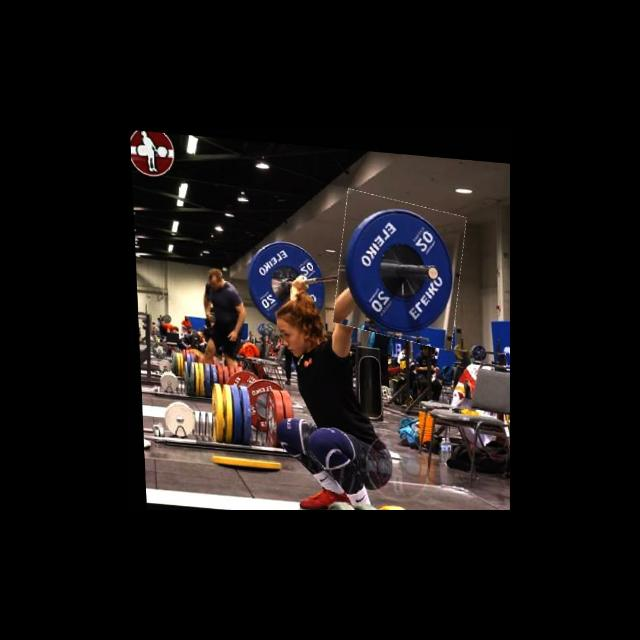barbell: (332, 188, 466, 342)
